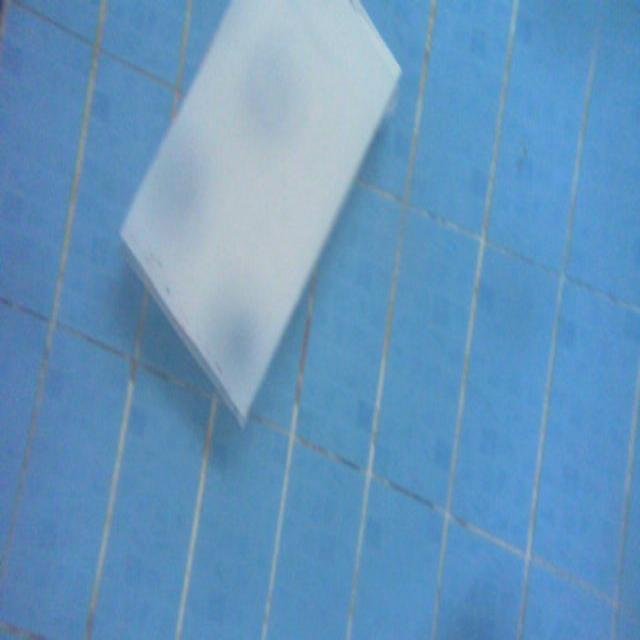Cuboid: (117, 0, 402, 430)
